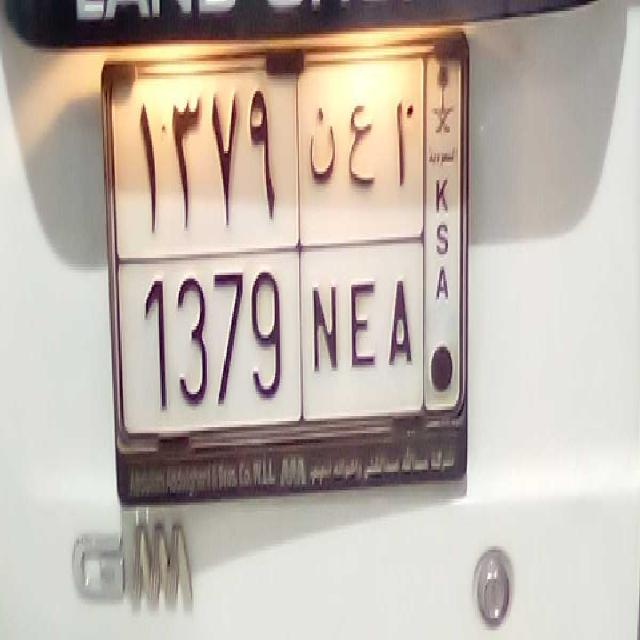license_plate: (132, 243, 420, 422)
